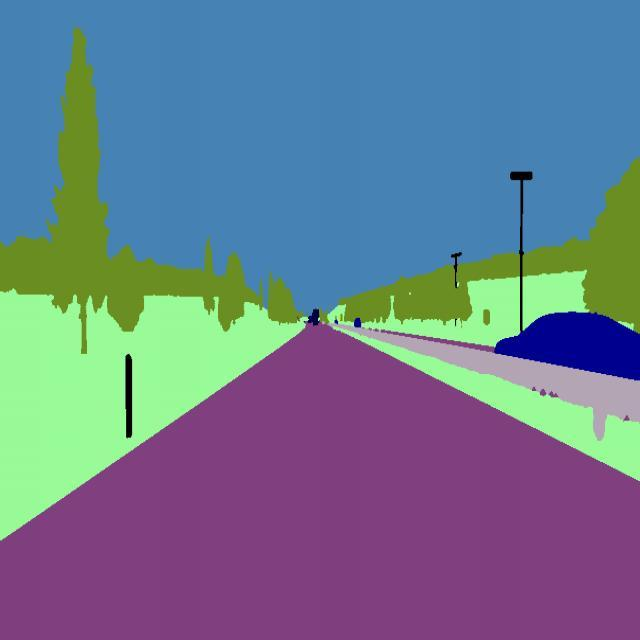safe: (494, 298, 640, 439), (308, 304, 321, 332), (352, 310, 364, 336)
